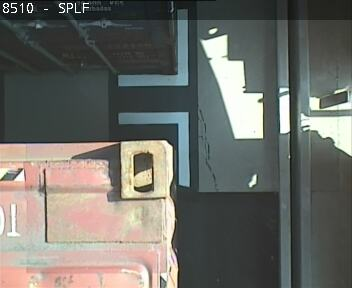groundmarker_1: (118, 7, 190, 187)
